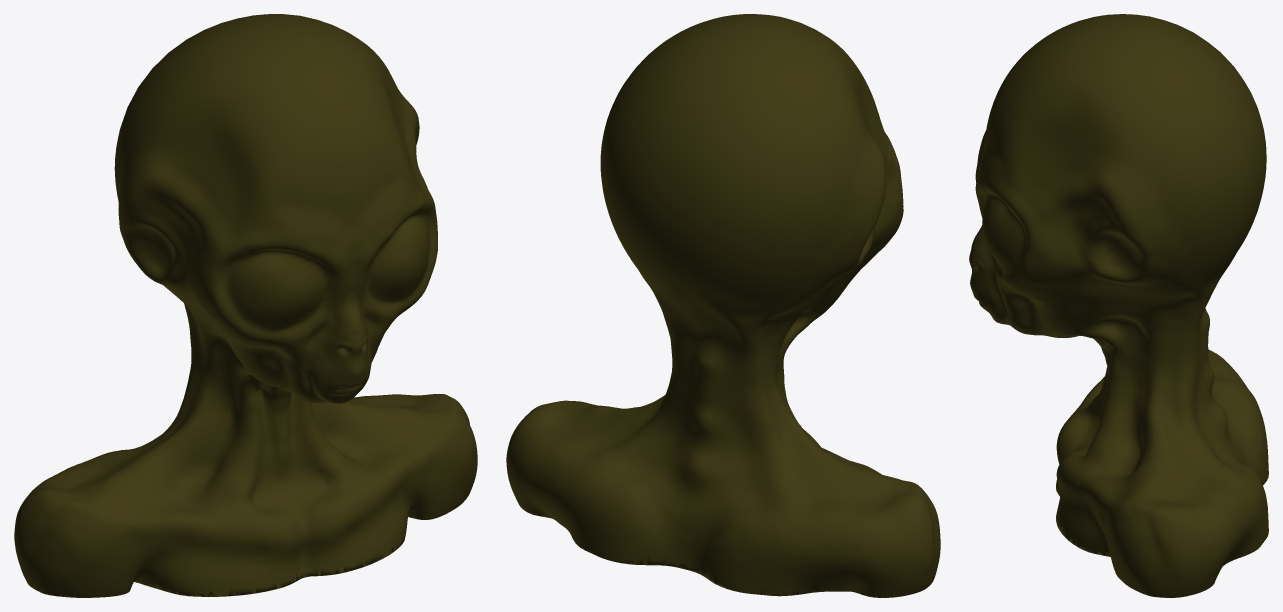
Rendered from alienhm.fbx.
The picture shows the model from 3 angles, left to right: view 1: azimuth 30°, elevation 25°; view 2: azimuth 150°, elevation 25°; view 3: azimuth 270°, elevation 25°; orthographic projection. The views are drawn at different scales.
Parts seen in each view (by area): view 1: Alien; view 2: Alien; view 3: Alien.
Boxes of the visible parts, x1,y1,x2,y2 form: Alien: [14, 14, 477, 597]; Alien: [506, 14, 940, 597]; Alien: [969, 14, 1268, 597].
Size of the model in its own units: 151 by 169 by 96.79.
